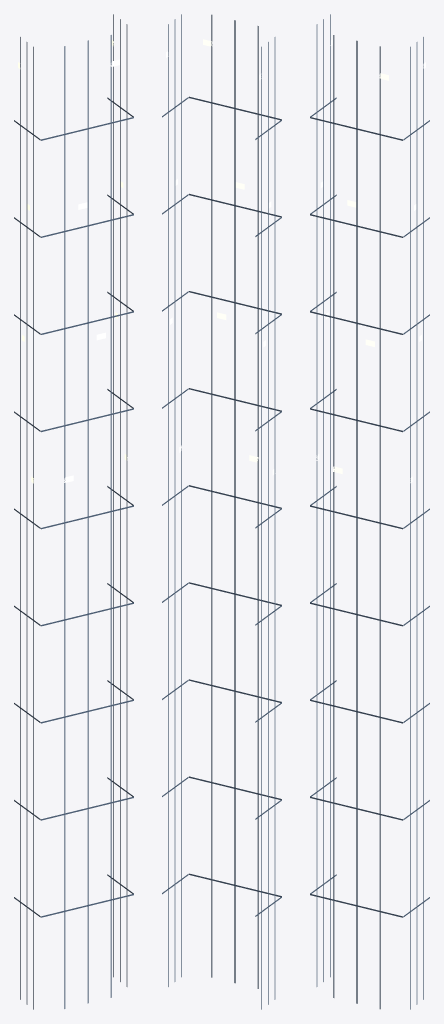
Rendered from SM_MM_W03_Facade.fbx.
3 renders of one model, left to right at view 1: azimuth 30°, elevation 25°; view 2: azimuth 150°, elevation 25°; view 3: azimuth 330°, elevation 25°, orthographic.
Parts seen in each view (by area): view 1: SM_MM_W03_Facade; view 2: SM_MM_W03_Facade; view 3: SM_MM_W03_Facade.
Part boxes in pixels (x1,y1,x2,y2): SM_MM_W03_Facade: (14, 14, 133, 1009); SM_MM_W03_Facade: (162, 14, 281, 1009); SM_MM_W03_Facade: (310, 14, 429, 1009).
Size of the model in its own units: 12.05 by 6.03 by 119.
